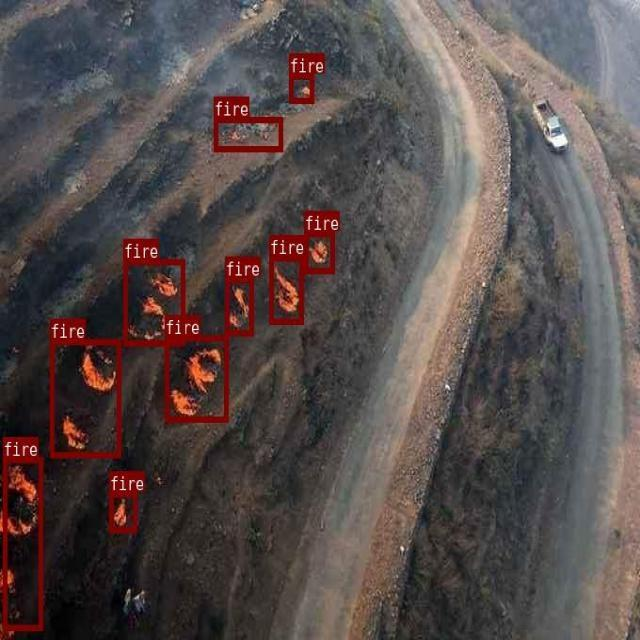fire: (49, 339, 120, 457), (3, 456, 43, 629), (164, 335, 227, 421), (122, 258, 184, 345), (213, 117, 282, 151), (269, 255, 303, 324), (224, 276, 253, 335), (303, 230, 333, 272), (108, 490, 136, 532), (289, 73, 313, 103)
